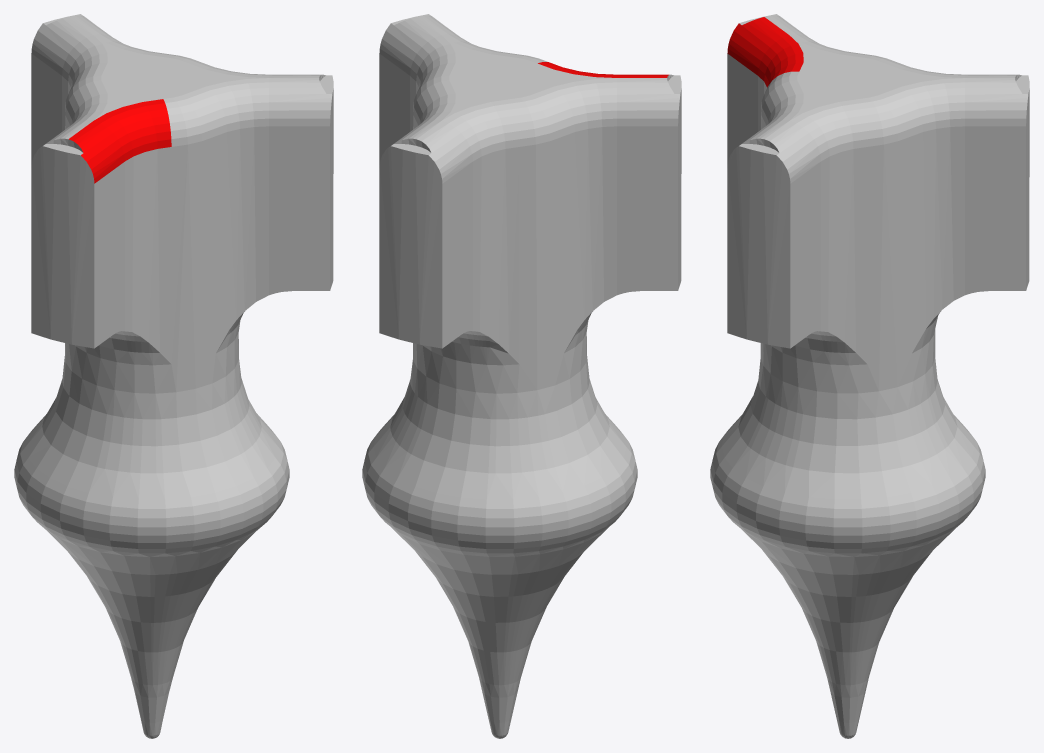
File: plug_step_8_13.obj
3 renders of one model, left to right at view 1: azimuth 30°, elevation 25°; view 2: azimuth 150°, elevation 25°; view 3: azimuth 270°, elevation 25°, orthographic.
Parts seen in each view (by area): view 1: Object1; view 2: Object1; view 3: Object1.
Part boxes in pixels (box(x1,y1,x2,y2)): Object1: box(14, 14, 333, 738); Object1: box(362, 14, 681, 738); Object1: box(710, 14, 1029, 738).
Size of the model in its own units: 23.71 by 50.09 by 21.95.
